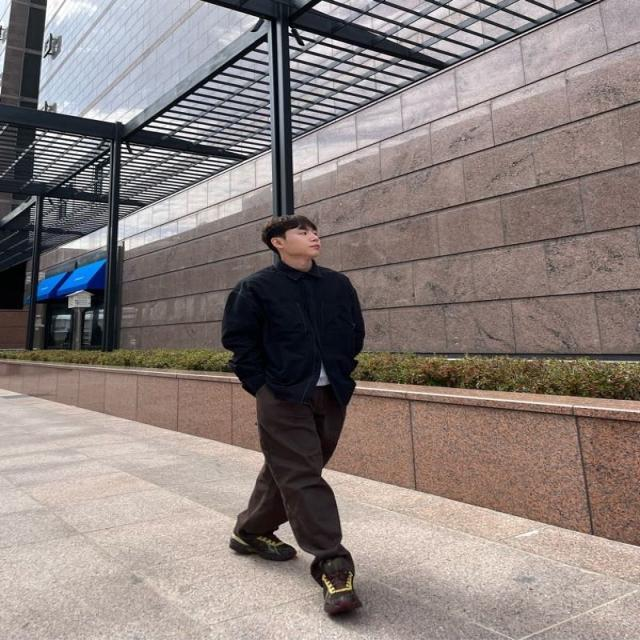cottonpants: (235, 381, 356, 579)
jacket: (220, 264, 367, 391)
